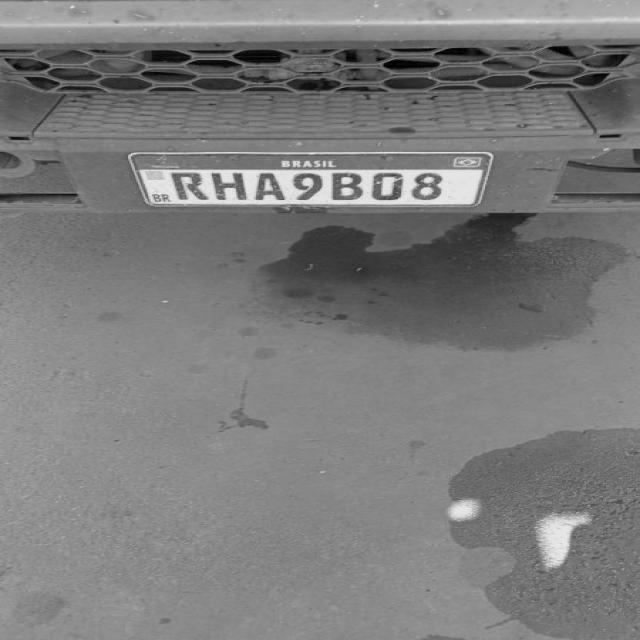placa_mercosul: (128, 152, 494, 207)
